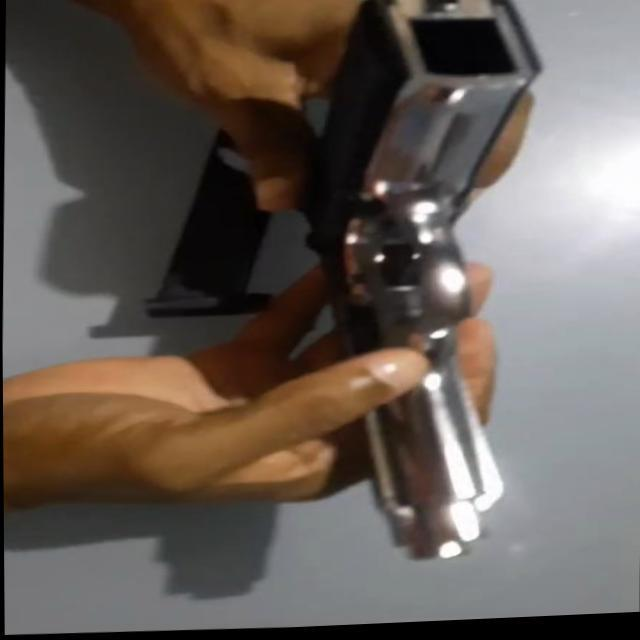weapon: (134, 0, 545, 575)
